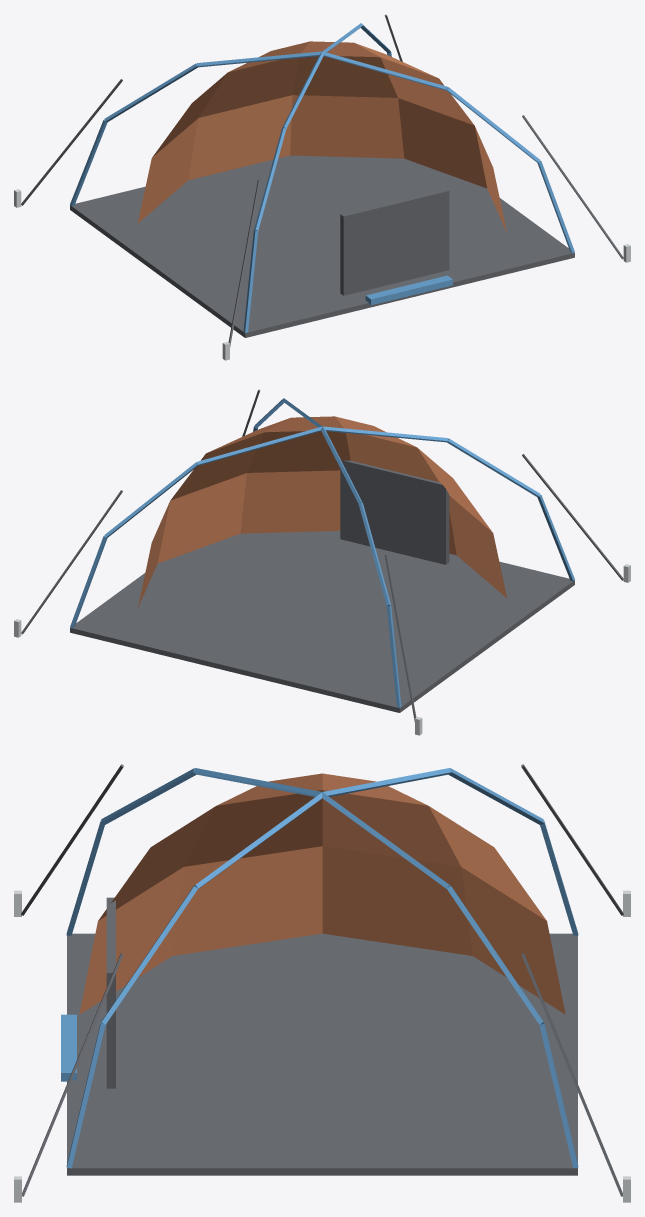
File: caravan-park-and-campsite-dome-tent-large-b8c0e9d3__35348.glb
The picture shows the model from 3 angles, top to bottom: view 1: azimuth 30°, elevation 25°; view 2: azimuth 150°, elevation 25°; view 3: azimuth 270°, elevation 25°; orthographic projection. The views are drawn at different scales.
Parts seen in each view (by area): view 1: dome-tent-large-charcoal, dome-tent-large-flame, dome-tent-large-azure; view 2: dome-tent-large-charcoal, dome-tent-large-flame, dome-tent-large-azure; view 3: dome-tent-large-charcoal, dome-tent-large-flame, dome-tent-large-azure, dome-tent-large-galv.
Boxes of the visible parts, x1,y1,x2,y2 form: dome-tent-large-charcoal: (21,14,623,346); dome-tent-large-flame: (137,41,506,232); dome-tent-large-azure: (70,23,574,332); dome-tent-large-charcoal: (21,389,623,721); dome-tent-large-flame: (138,416,507,607); dome-tent-large-azure: (70,398,574,707); dome-tent-large-charcoal: (21,764,623,1196); dome-tent-large-flame: (79,773,565,1014); dome-tent-large-azure: (61,768,578,1168); dome-tent-large-galv: (14,890,630,1202).
Size of the model in its own units: 4.31 by 1.85 by 3.89.
